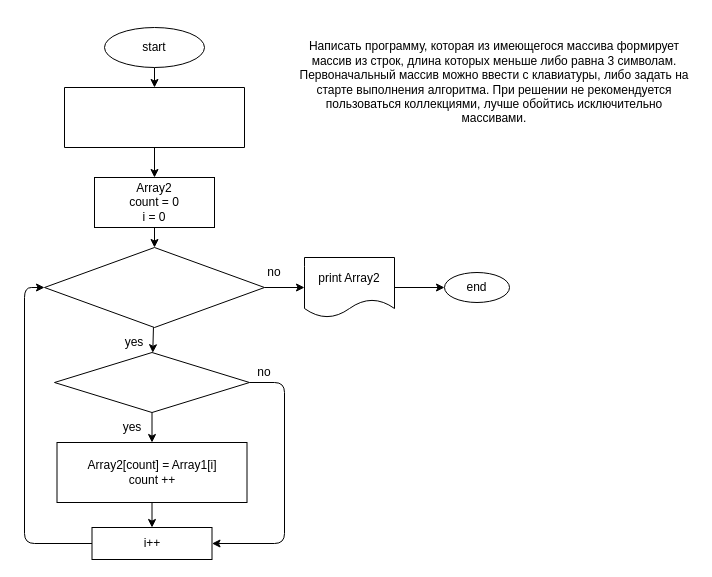
This 712x577 diagram has some shape labels left out. The shapes that lost their labels are listed below. From the top down, each one's centre as x and y in pixels, then its label:
(154,117): Array1 = {"hello", "2", "world", ":-)"}
(154,287): i < Array1.Lehgth
(152,382): Array1[ i ].Length <= 3
